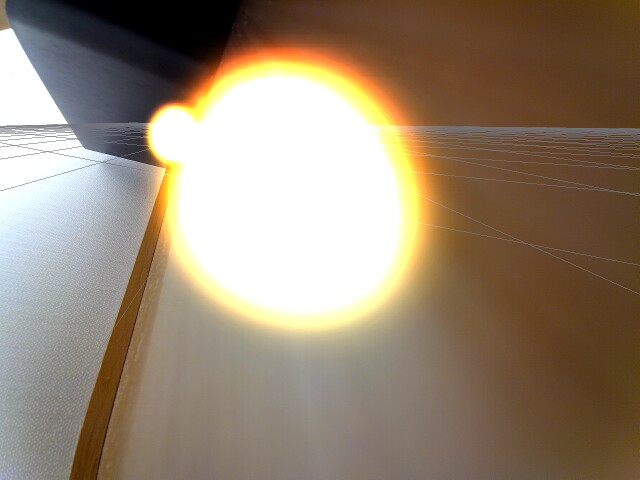fire: (148, 64, 433, 330)
